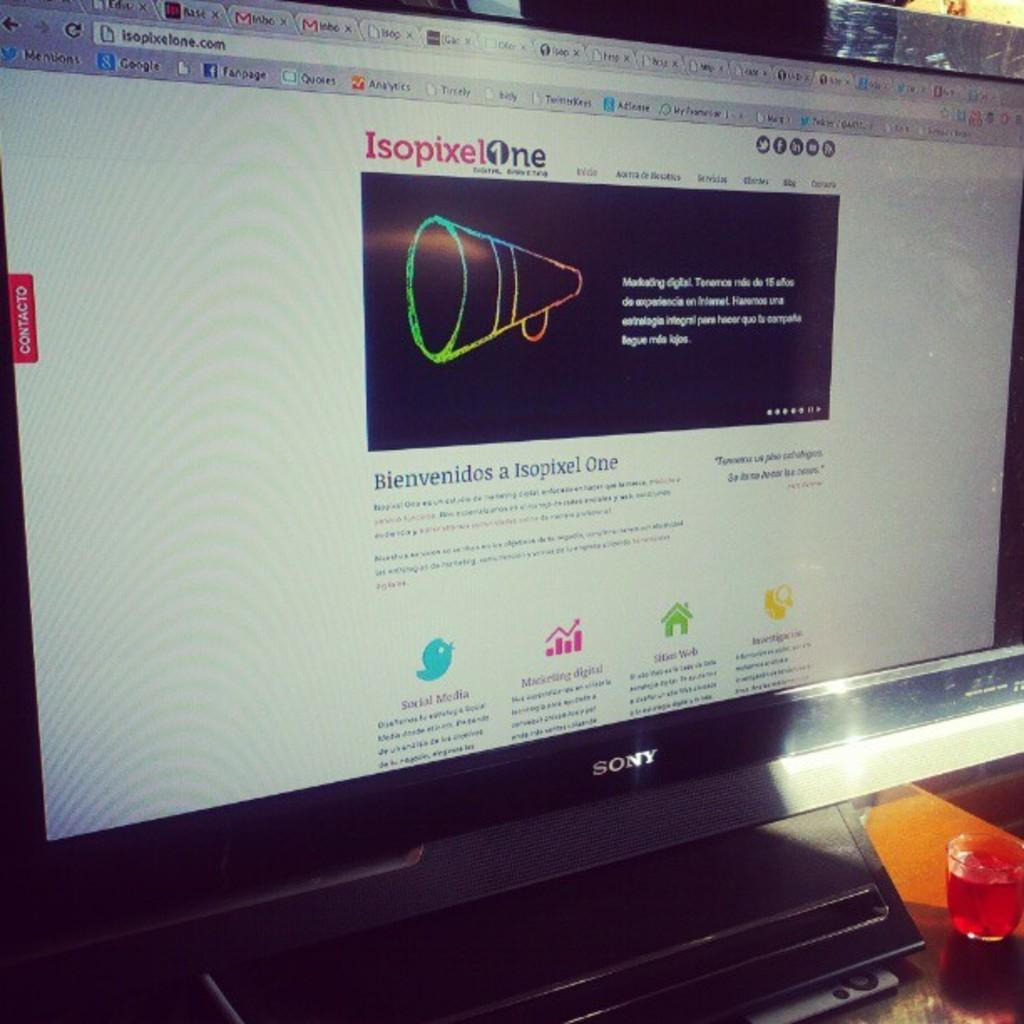Computer-monitor: (0, 8, 1024, 997)
